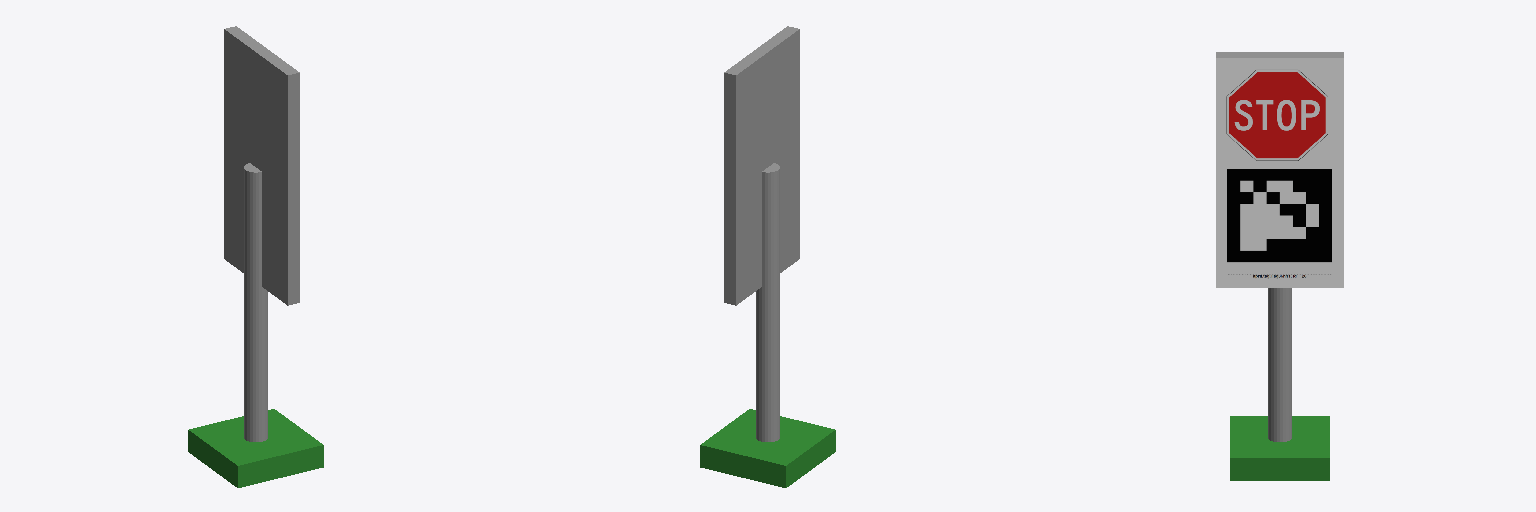
3 renders of one model, left to right at view 1: azimuth 30°, elevation 25°; view 2: azimuth 150°, elevation 25°; view 3: azimuth 270°, elevation 25°, orthographic.
Parts seen in each view (by area): view 1: SketchUp.002_ID23, SketchUp_ID2, SketchUp.001_ID10; view 2: SketchUp.002_ID23, SketchUp_ID2, SketchUp.001_ID10; view 3: SketchUp.003_ID31, SketchUp_ID2, SketchUp.001_ID10, SketchUp.002_ID23.
Boxes of the visible parts, x1,y1,x2,y2 form: SketchUp.002_ID23: [224, 26, 299, 305]; SketchUp_ID2: [188, 409, 323, 487]; SketchUp.001_ID10: [244, 163, 267, 441]; SketchUp.002_ID23: [724, 26, 799, 305]; SketchUp_ID2: [700, 409, 835, 487]; SketchUp.001_ID10: [756, 163, 779, 441]; SketchUp.003_ID31: [1216, 58, 1343, 287]; SketchUp_ID2: [1230, 416, 1329, 480]; SketchUp.001_ID10: [1268, 288, 1291, 441]; SketchUp.002_ID23: [1216, 52, 1343, 57].
Size of the model in its own units: 0.0508 by 0.2301 by 0.065.
Materials: 3 (1 with a texture image).